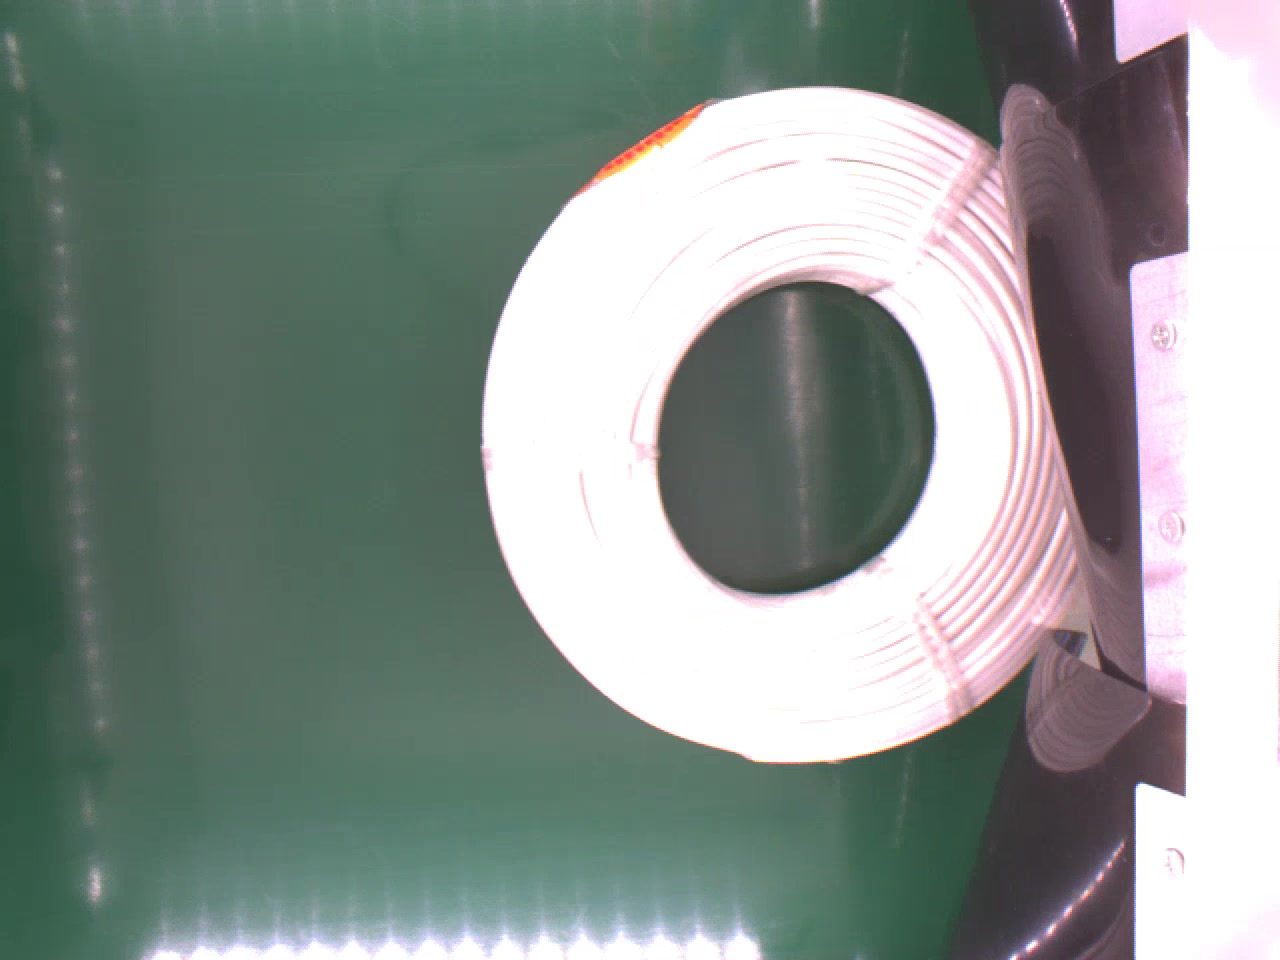white: (482, 86, 1076, 775)
